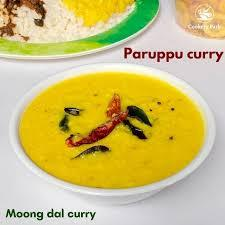Dhal Curry: (27, 65, 198, 203)
